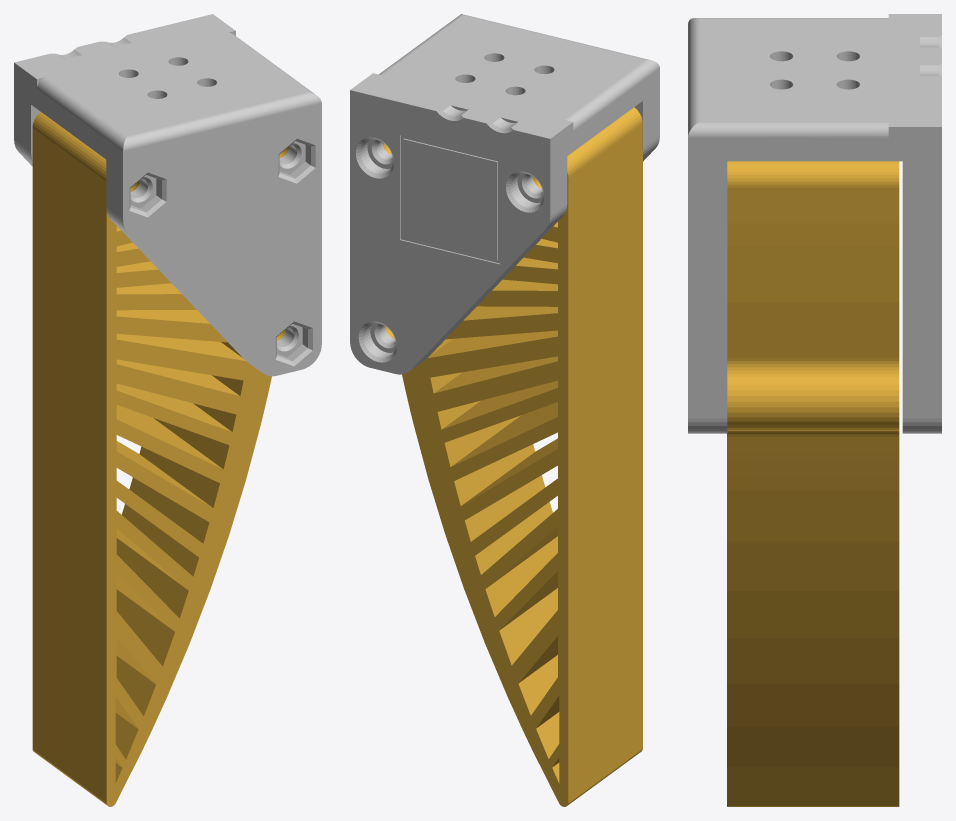
Rendered from umi_gripper.obj.
3 renders of one model, left to right at view 1: azimuth 30°, elevation 25°; view 2: azimuth 150°, elevation 25°; view 3: azimuth 270°, elevation 25°, orthographic. The views are drawn at different scales.
Parts seen in each view (by area): view 1: hard_soft_finger_v2, aloha_gripper_connector; view 2: hard_soft_finger_v2, aloha_gripper_connector; view 3: hard_soft_finger_v2, aloha_gripper_connector.
Part boxes in pixels (x1,y1,x2,y2): hard_soft_finger_v2: (32,112,288,806); aloha_gripper_connector: (14,14,321,376); hard_soft_finger_v2: (383,107,642,806); aloha_gripper_connector: (350,14,659,374); hard_soft_finger_v2: (727,161,899,806); aloha_gripper_connector: (688,14,941,433).
Bounding box in the file's own units: 40.04 × 130 × 38.
